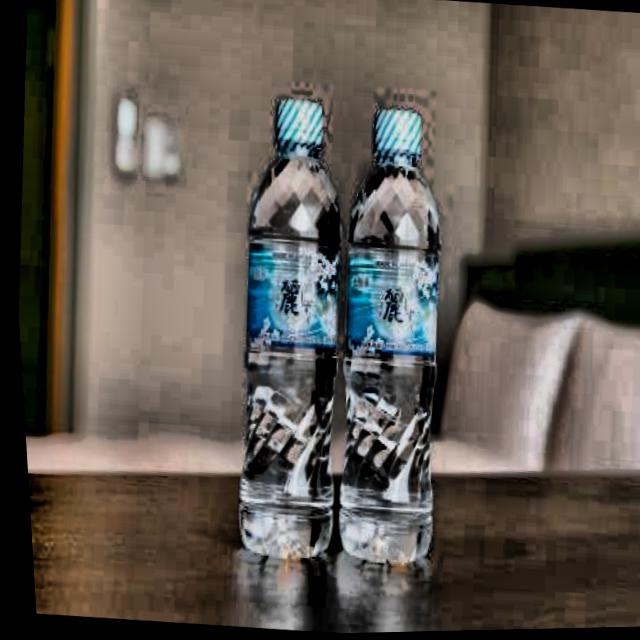Bottles: (299, 97, 501, 598), (199, 84, 369, 582)
